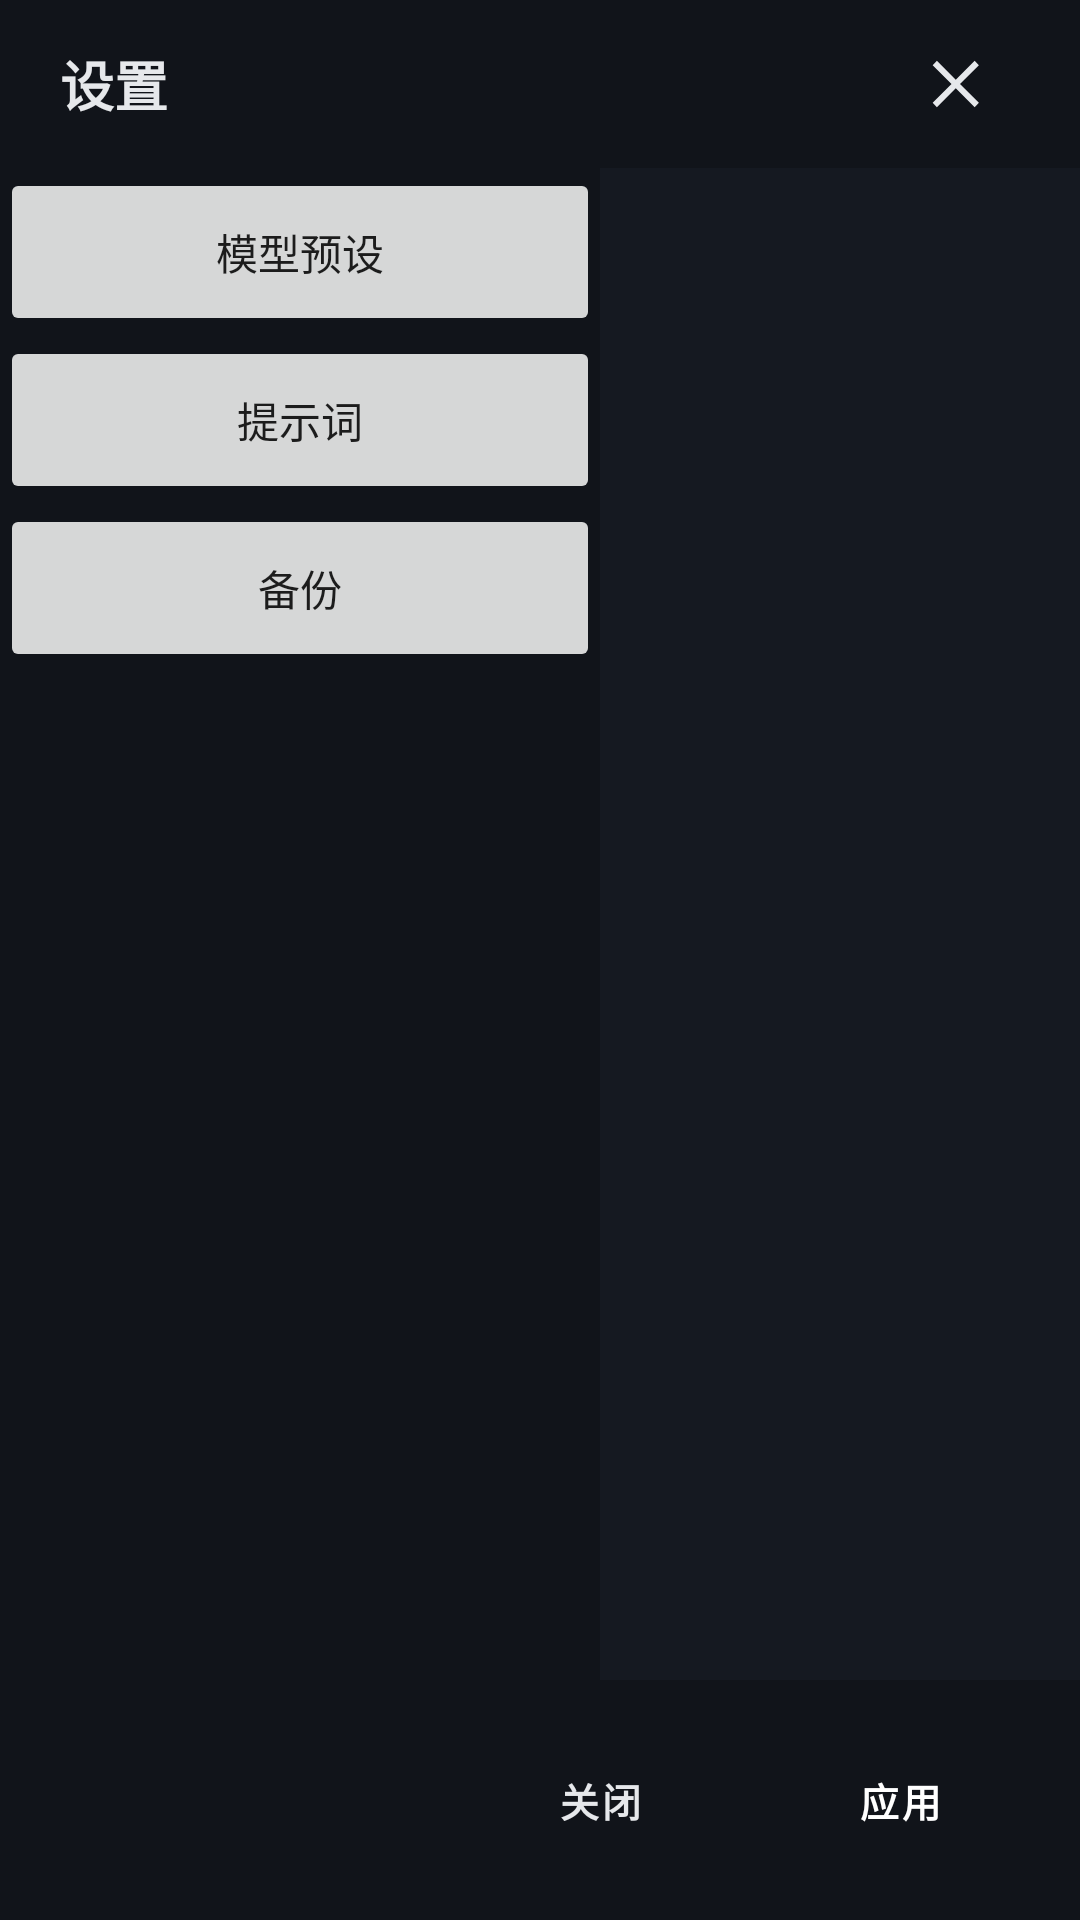

Screen size 1080px×1920px. Icon name, then its box in pixels as box(x1, y1, x2, y2):
close: box(933, 61, 979, 107)
